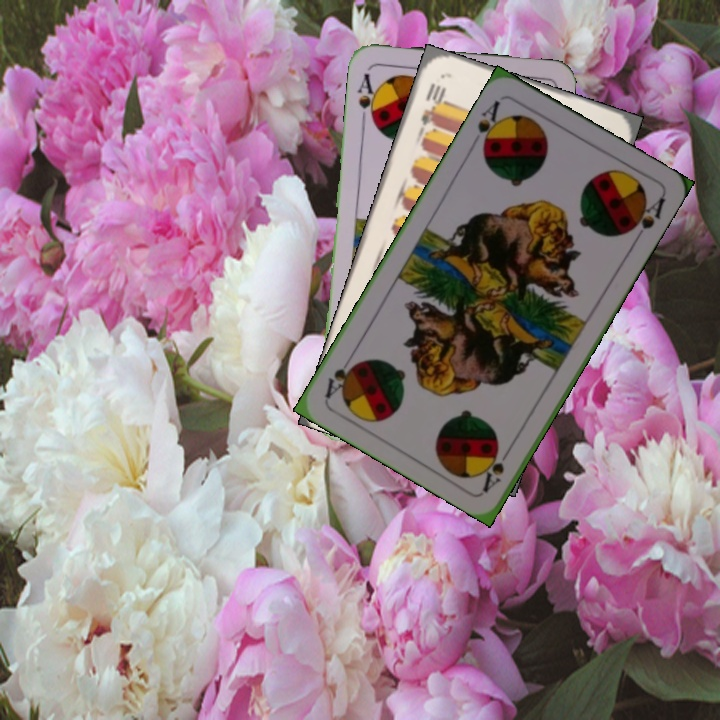E10: (417, 78, 448, 128)
SA: (467, 96, 507, 154), (479, 440, 516, 494), (354, 69, 380, 127)
